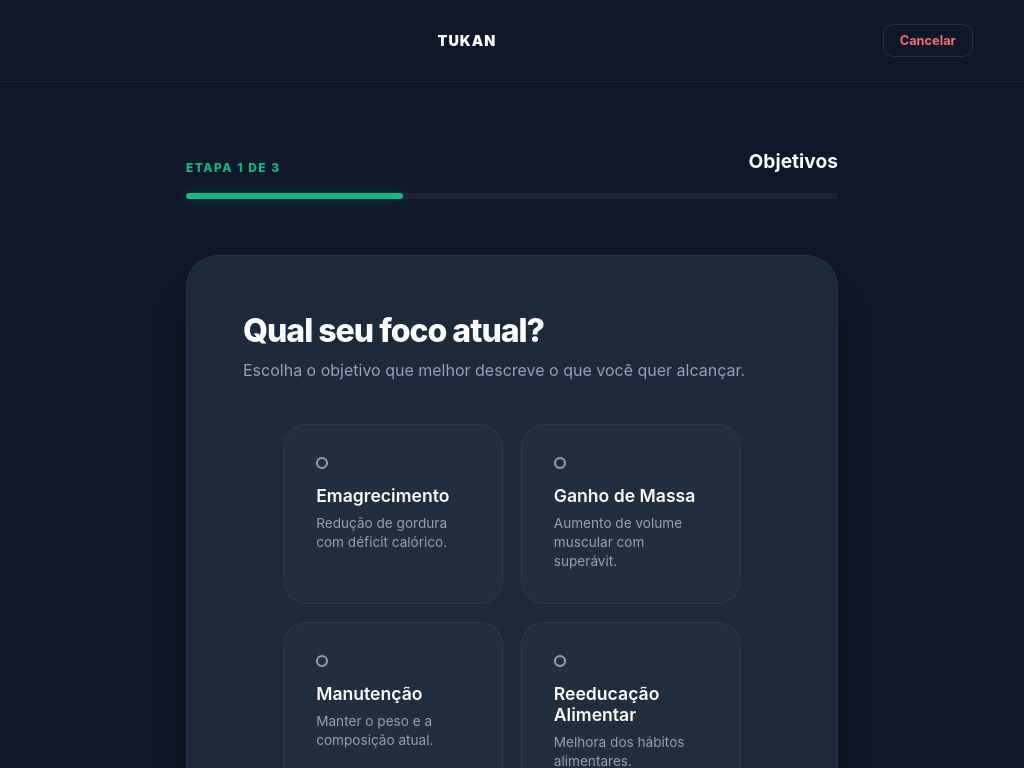
Test: TriagemView — diet type selection and payload › shows the restrictive-diet caution for CETOGENICA
Click the element with class "selectable-card" that starts with "Emagrecimento": (393, 514) top-left (283, 424), bottom-right (503, 604)
(page scrolled)
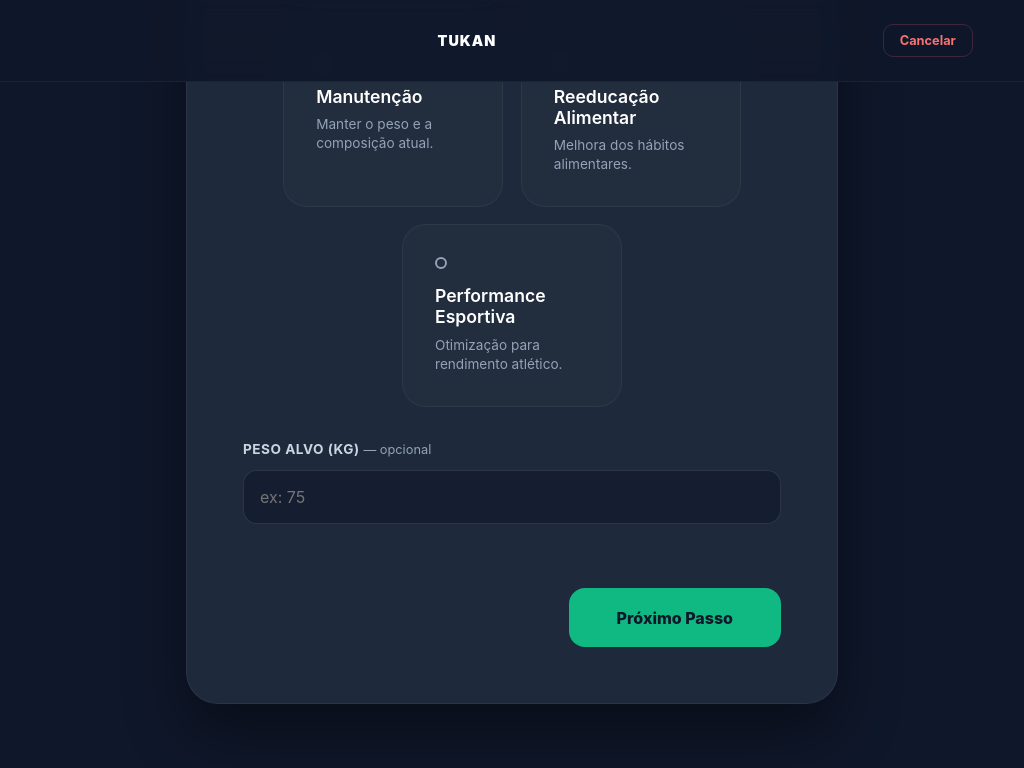
Click the button "Próximo Passo": (675, 618) top-left (569, 588), bottom-right (781, 647)
(page scrolled)
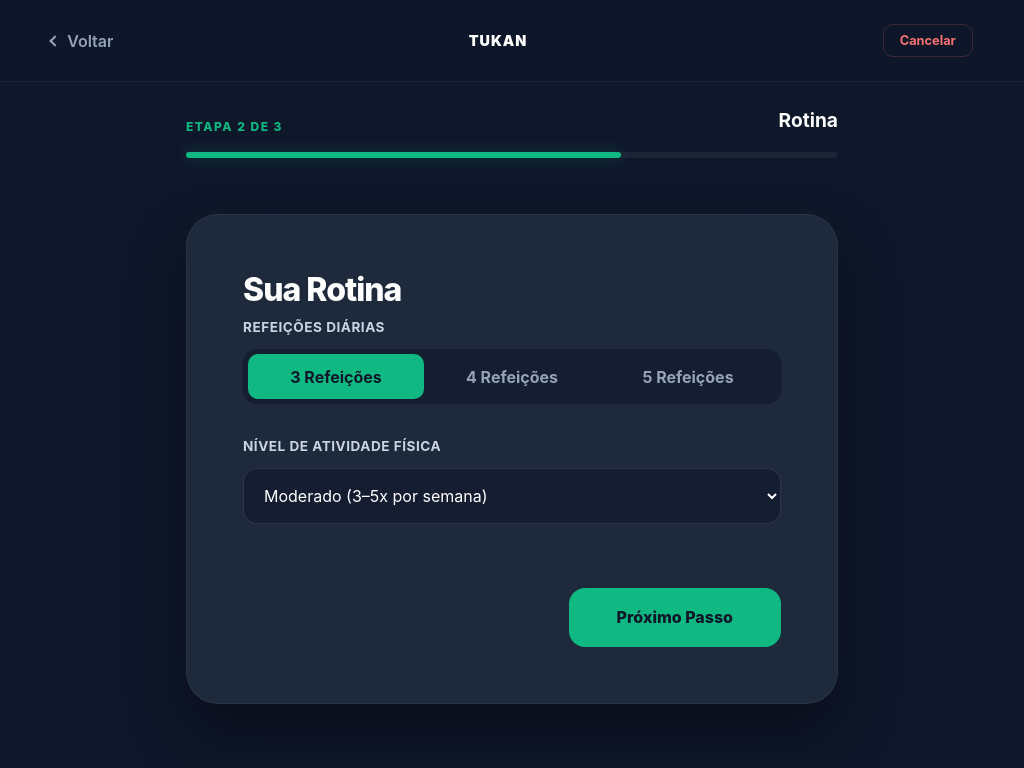
Click the button "Próximo Passo": (675, 617) top-left (569, 588), bottom-right (781, 647)
(page scrolled)
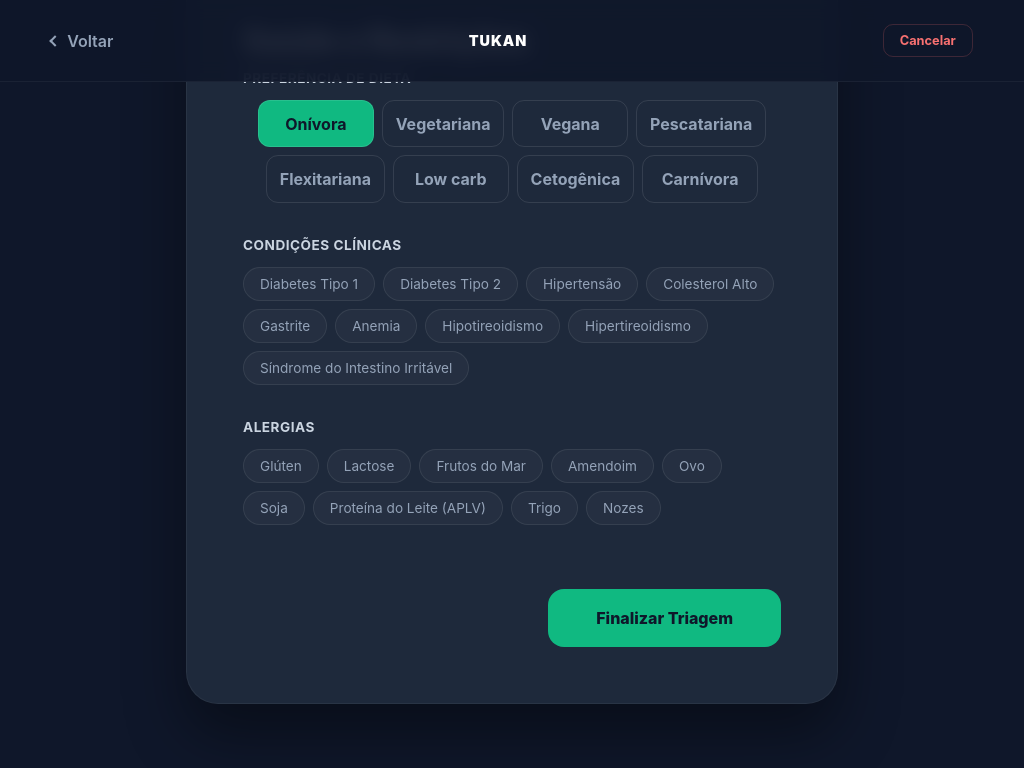
Click the button "Cetogênica": (575, 179) top-left (517, 156), bottom-right (634, 203)
(page scrolled)
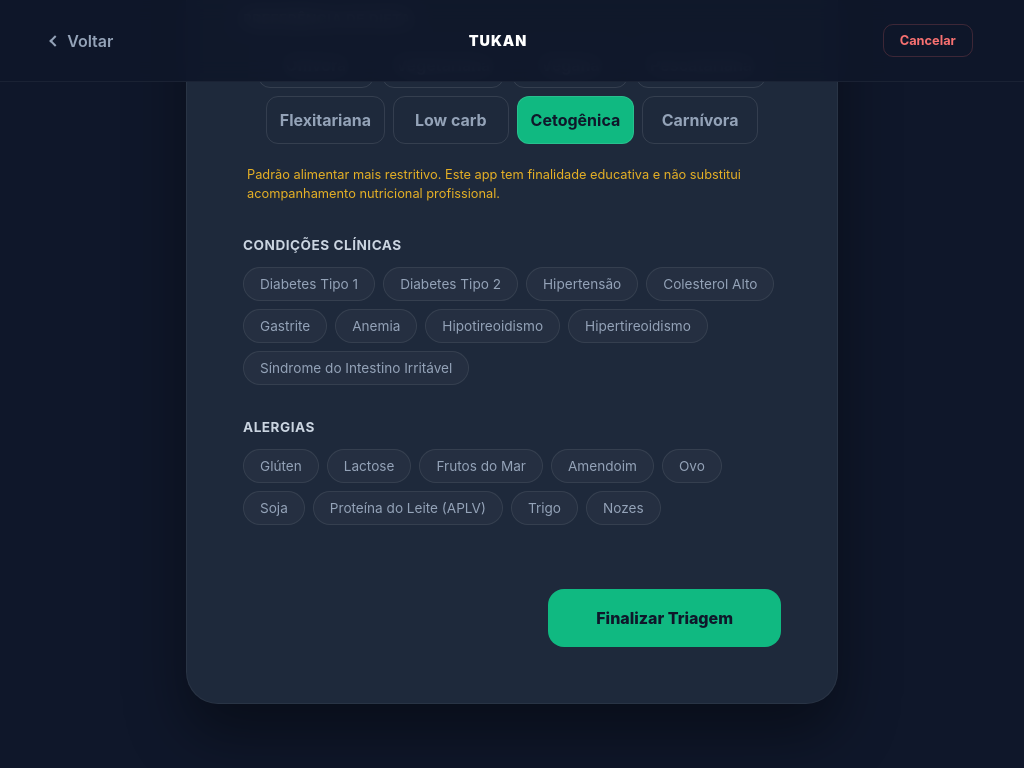
Check: the text with class "diet-caution" is shown, box top-left (247, 166), bottom-right (777, 203)
